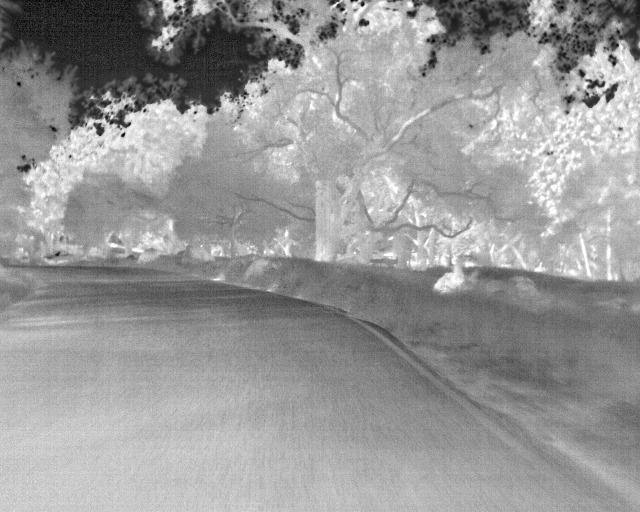car: (45, 250, 74, 267)
